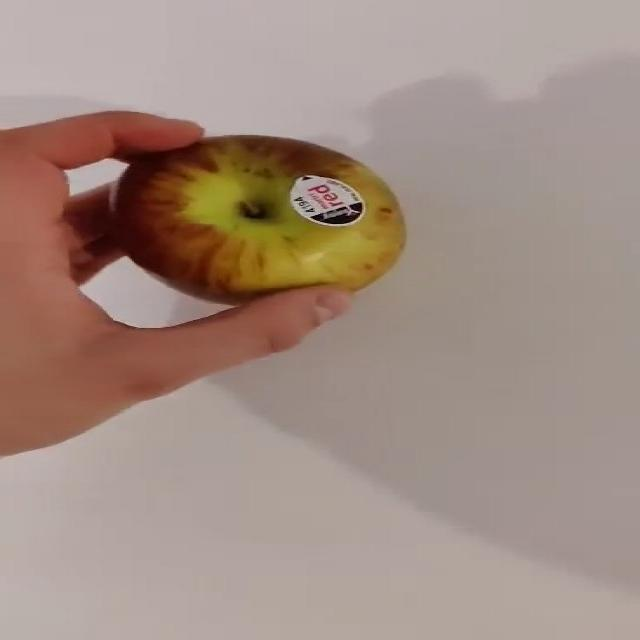Apple: (111, 133, 407, 304)
